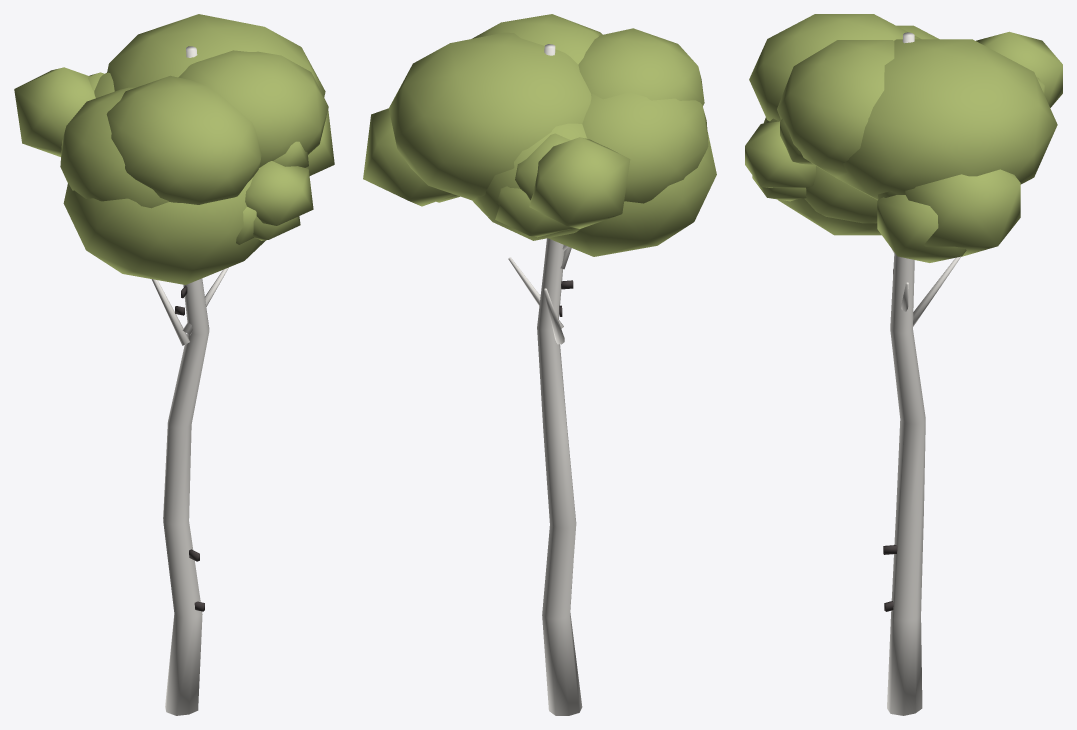
Rendered from tree_birch.glb.
3 views of the same model, side by side, from view 1: azimuth 30°, elevation 25°; view 2: azimuth 150°, elevation 25°; view 3: azimuth 270°, elevation 25° (orthographic). The views are drawn at different scales.
Parts seen in each view (by area): view 1: tree_birch; view 2: tree_birch; view 3: tree_birch.
Boxes of the visible parts, x1,y1,x2,y2 form: tree_birch: (14,14,334,715); tree_birch: (363,14,716,715); tree_birch: (745,14,1062,715).
Size of the model in its own units: 1.66 by 3.71 by 1.57.
